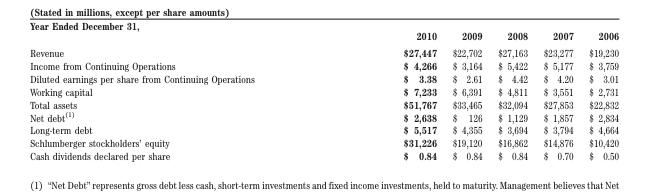table: (29, 29, 618, 161)
table column: (29, 29, 328, 161), (328, 29, 443, 161), (443, 29, 489, 161), (534, 29, 580, 161), (489, 29, 534, 161), (580, 29, 618, 161)
table column header: (29, 29, 618, 43)
table row: (29, 43, 618, 58), (29, 29, 618, 43), (29, 109, 618, 123), (29, 58, 618, 71), (29, 71, 618, 84), (29, 84, 618, 97), (29, 123, 618, 136), (29, 136, 618, 149), (29, 97, 618, 109), (29, 149, 618, 161)
